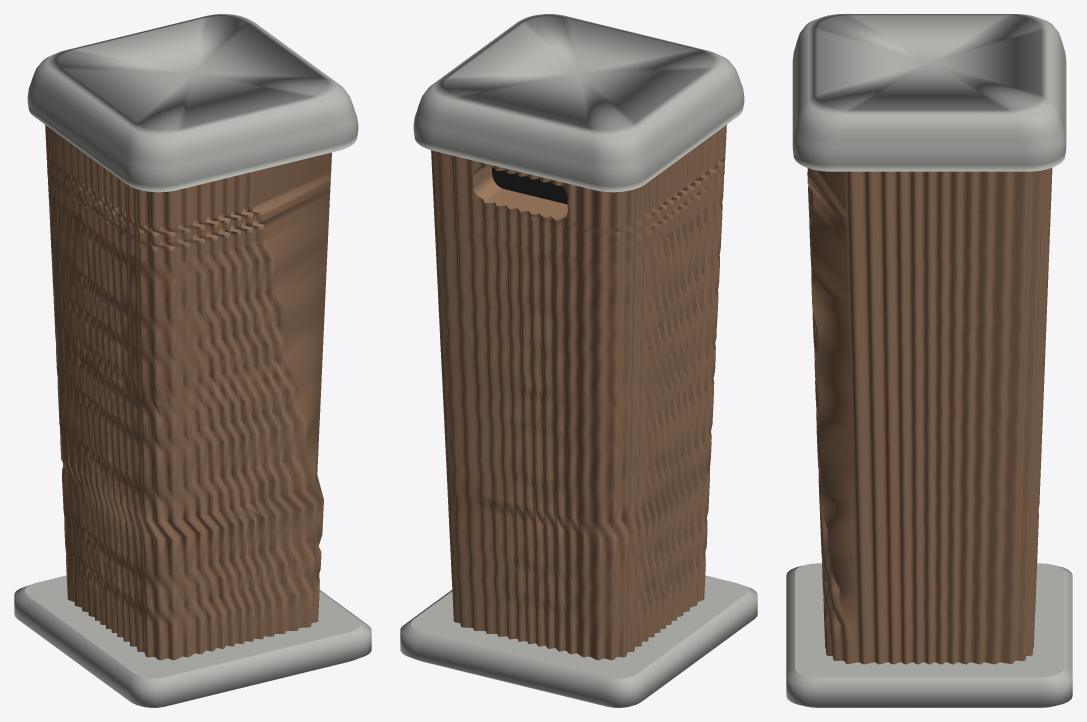
File: 37-trash-bin-bs2.glb
3 renders of one model, left to right at view 1: azimuth 30°, elevation 25°; view 2: azimuth 150°, elevation 25°; view 3: azimuth 270°, elevation 25°, orthographic. The views are drawn at different scales.
Parts seen in each view (by area): view 1: Body, Rim, Plinth; view 2: Body, Rim, Plinth, SlotPlate; view 3: Body, Rim, Plinth.
Boxes of the visible parts, x1=… form: Body: x1=45, y1=125, x2=331, y2=660; Rim: x1=27, y1=14, x2=358, y2=192; Plinth: x1=14, y1=575, x2=371, y2=707; Body: x1=431, y1=125, x2=726, y2=660; Rim: x1=413, y1=14, x2=744, y2=192; Plinth: x1=400, y1=575, x2=757, y2=707; SlotPlate: x1=492, y1=167, x2=567, y2=204; Body: x1=807, y1=168, x2=1052, y2=664; Rim: x1=792, y1=14, x2=1066, y2=171; Plinth: x1=786, y1=563, x2=1072, y2=707.
Size of the model in its own units: 1.18 by 2.67 by 1.18.
